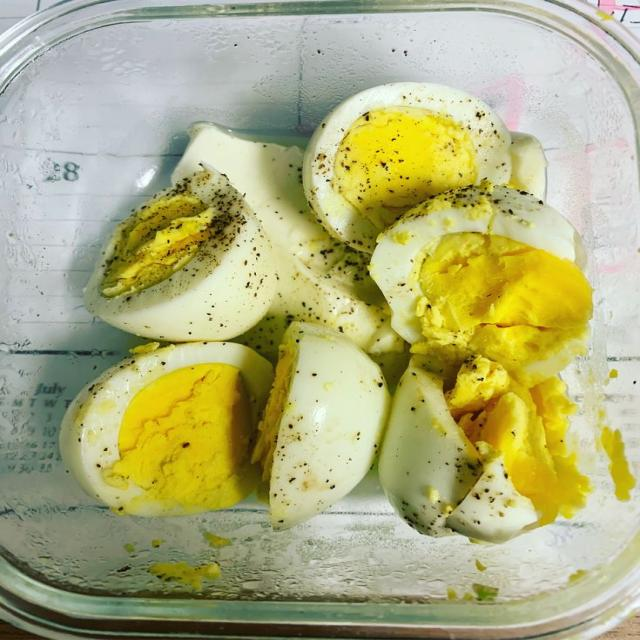eggs: (90, 128, 598, 536)
